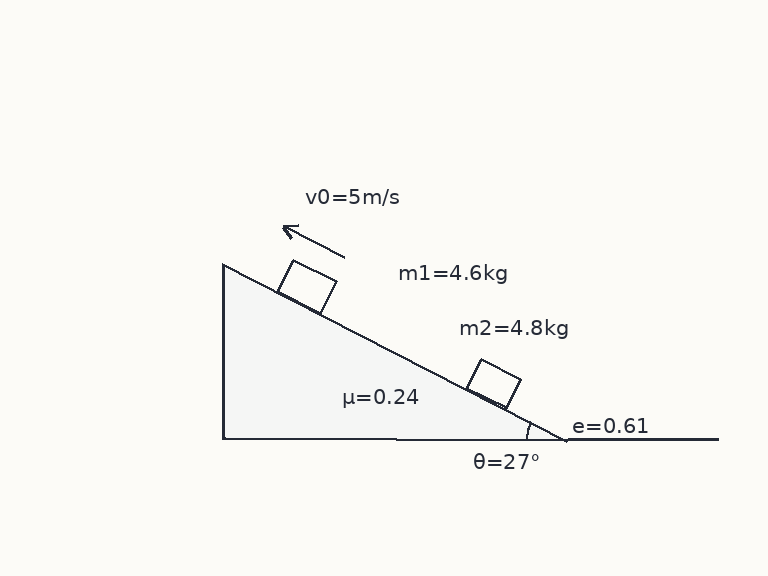block: (275, 257, 338, 315), (465, 357, 522, 410)
ramp: (222, 262, 569, 441)
